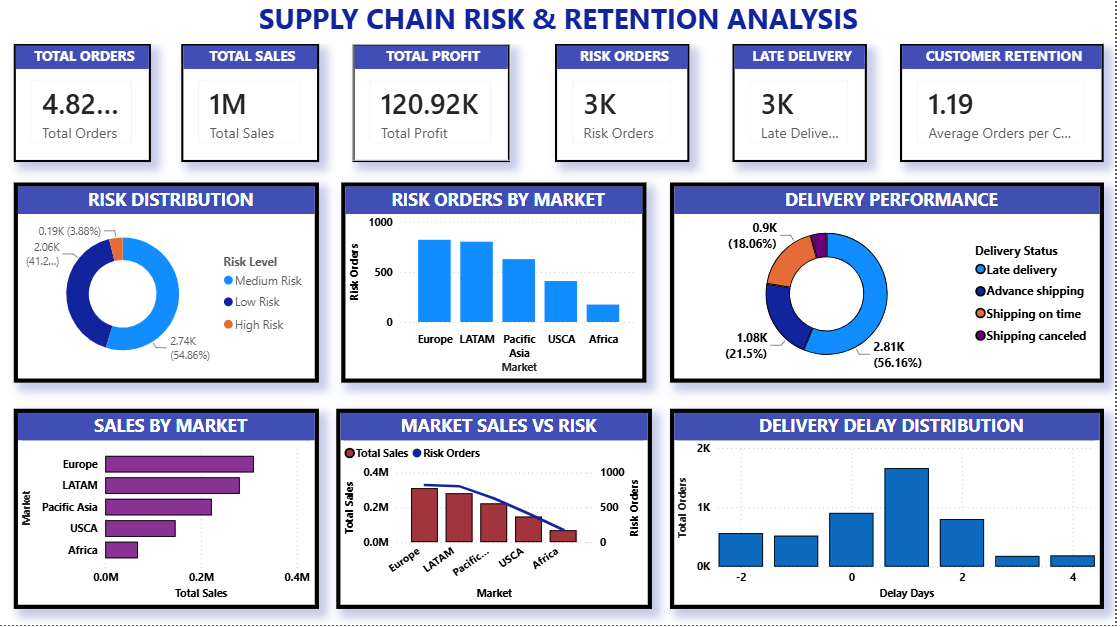

This screenshot's page, from the dashboard's own definition file:
{"tool":"powerbi","page":{"name":"SUPPLY CHAIN RISK & RETENTION ANALYSIS","canvas":[1280,720],"ordinal":0},"visuals":[{"type":"cardVisual","title":"TOTAL ORDERS","fields":{"Data":["Supply_Chain_Final_Data.Total Orders"]},"box":[21.8,55.8,156.6,134.8],"z":0},{"type":"cardVisual","title":"TOTAL SALES","fields":{"Data":["Supply_Chain_Final_Data.Total Sales"]},"box":[212.5,55.8,158,134.8],"z":1000},{"type":"cardVisual","title":"TOTAL PROFIT","fields":{"Data":["Supply_Chain_Final_Data.Total Profit"]},"box":[408.6,55.8,179.8,134.8],"z":2000},{"type":"cardVisual","title":"RISK ORDERS","fields":{"Data":["Supply_Chain_Final_Data.Risk Orders"]},"box":[640.1,55.8,153.9,134.8],"z":3000},{"type":"cardVisual","title":"LATE DELIVERY","fields":{"Data":["Supply_Chain_Final_Data.Late Delivery"]},"box":[843.1,55.8,153.9,134.8],"z":4000},{"type":"cardVisual","title":"CUSTOMER RETENTION","fields":{"Data":["Supply_Chain_Final_Data.Average Orders per Customer"]},"box":[1033.8,55.8,232.9,134.8],"z":5000},{"type":"donutChart","title":"RISK DISTRIBUTION","fields":{"Category":["Supply_Chain_Final_Data.Risk Level"],"Y":["CountNonNull(Supply_Chain_Final_Data.Order Id)"]},"box":[21.8,213.8,348.7,228.8],"z":6000},{"type":"clusteredColumnChart","title":"RISK ORDERS BY MARKET ","fields":{"Category":["Supply_Chain_Final_Data.Market"],"Y":["Supply_Chain_Final_Data.Risk Orders"]},"box":[396.3,213.8,348.7,228.8],"z":7000},{"type":"donutChart","title":"DELIVERY PERFORMANCE","fields":{"Category":["Supply_Chain_Final_Data.Delivery Status"],"Y":["CountNonNull(Supply_Chain_Final_Data.Order Id)"]},"box":[770.9,213.8,495.8,228.8],"z":8000},{"type":"clusteredBarChart","title":"SALES BY MARKET","fields":{"Category":["Supply_Chain_Final_Data.Market"],"Y":["Supply_Chain_Final_Data.Total Sales"]},"box":[21.8,472.6,348.7,228.8],"z":9000},{"type":"lineClusteredColumnComboChart","title":"MARKET SALES VS RISK","fields":{"Category":["Supply_Chain_Final_Data.Market"],"Y":["Supply_Chain_Final_Data.Total Sales"],"Y2":["Supply_Chain_Final_Data.Risk Orders"]},"box":[389.5,472.6,360.9,228.8],"z":10000},{"type":"clusteredColumnChart","title":"DELIVERY DELAY DISTRIBUTION","fields":{"Category":["Supply_Chain_Final_Data.Delay Days"],"Y":["Supply_Chain_Final_Data.Total Orders"]},"box":[770.9,472.6,495.8,228.8],"z":11000},{"type":"textbox","box":[21.8,0,1244.9,55.8],"z":12000}]}

Visuals, with their boxes in screenshot pixels (x1, y1, x2, y2), scaled from the page's 1280x720 canvas onto the 1120x627 screenshot:
"TOTAL ORDERS" cardVisual: {"x1": 19, "y1": 49, "x2": 156, "y2": 166}
"TOTAL SALES" cardVisual: {"x1": 186, "y1": 49, "x2": 324, "y2": 166}
"TOTAL PROFIT" cardVisual: {"x1": 358, "y1": 49, "x2": 515, "y2": 166}
"RISK ORDERS" cardVisual: {"x1": 560, "y1": 49, "x2": 695, "y2": 166}
"LATE DELIVERY" cardVisual: {"x1": 738, "y1": 49, "x2": 872, "y2": 166}
"CUSTOMER RETENTION" cardVisual: {"x1": 905, "y1": 49, "x2": 1108, "y2": 166}
"RISK DISTRIBUTION" donutChart: {"x1": 19, "y1": 186, "x2": 324, "y2": 385}
"RISK ORDERS BY MARKET " clusteredColumnChart: {"x1": 347, "y1": 186, "x2": 652, "y2": 385}
"DELIVERY PERFORMANCE" donutChart: {"x1": 675, "y1": 186, "x2": 1108, "y2": 385}
"SALES BY MARKET" clusteredBarChart: {"x1": 19, "y1": 412, "x2": 324, "y2": 611}
"MARKET SALES VS RISK" lineClusteredColumnComboChart: {"x1": 341, "y1": 412, "x2": 657, "y2": 611}
"DELIVERY DELAY DISTRIBUTION" clusteredColumnChart: {"x1": 675, "y1": 412, "x2": 1108, "y2": 611}
textbox: {"x1": 19, "y1": 0, "x2": 1108, "y2": 49}
